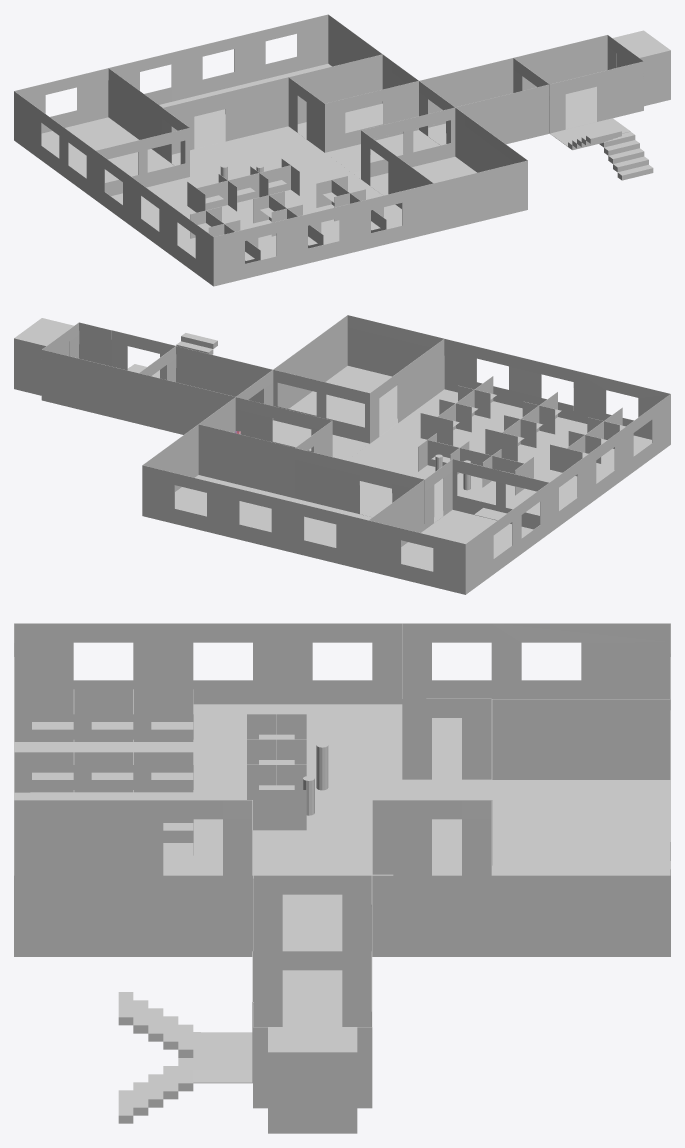
Rendered from FPSOffice_blocking.fbx.
3 views of the same model, one above another, from view 1: azimuth 30°, elevation 25°; view 2: azimuth 150°, elevation 25°; view 3: azimuth 270°, elevation 25° (orthographic). The views are drawn at different scales.
Parts seen in each view (by area): view 1: general.001, reuniones.001, cafeteria.001, jefe.001, secretaría.001, entrada.002, entrada.004, entrada.003, Cube.003, entrada.001, Cube.001, Cube.002 (+6 smaller); view 2: general.001, reuniones.001, cafeteria.001, jefe.001, secretaría.001, entrada.002, entrada.004, Cube.003, entrada.001, entrada.003, Plane.011, Plane.020 (+8 smaller); view 3: general.001, reuniones.001, cafeteria.001, jefe.001, secretaría.001, Cube.003, entrada.002, entrada.001, entrada.003, entrada.004, Cube.001, Cube.002 (+11 smaller).
Part boxes in pixels (x1,y1,x2,y2): general.001: [95, 126, 433, 286]; reuniones.001: [108, 14, 382, 156]; cafeteria.001: [361, 107, 527, 232]; jefe.001: [14, 68, 189, 199]; secretaría.001: [288, 54, 418, 152]; entrada.002: [419, 58, 549, 145]; entrada.004: [514, 35, 643, 129]; entrada.003: [549, 69, 630, 146]; Cube.003: [612, 30, 670, 106]; entrada.001: [325, 81, 454, 178]; Cube.001: [599, 131, 653, 180]; Cube.002: [568, 128, 621, 150]; general.001: [347, 338, 670, 532]; reuniones.001: [142, 424, 424, 571]; cafeteria.001: [273, 315, 444, 443]; jefe.001: [368, 459, 549, 594]; secretaría.001: [198, 397, 332, 498]; entrada.002: [138, 346, 272, 434]; entrada.004: [41, 322, 138, 423]; Cube.003: [14, 318, 73, 395]; entrada.001: [236, 370, 369, 460]; entrada.003: [111, 330, 175, 379]; Plane.011: [420, 413, 453, 445]; Plane.020: [485, 429, 517, 461]; general.001: [14, 623, 491, 875]; reuniones.001: [491, 699, 670, 956]; cafeteria.001: [14, 800, 252, 956]; jefe.001: [402, 623, 670, 779]; secretaría.001: [372, 800, 491, 956]; Cube.003: [268, 1027, 357, 1133]; entrada.002: [253, 875, 372, 1026]; entrada.001: [253, 875, 371, 951]; entrada.003: [193, 951, 252, 1083]; entrada.004: [253, 951, 372, 1108]; Cube.001: [118, 1058, 193, 1123]; Cube.002: [118, 992, 193, 1057].
Size of the model in its own units: 3400 by 450 by 2200.
